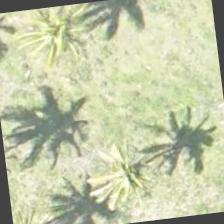Kelapa_Sawit: (78, 127, 180, 223), (15, 1, 113, 82)
